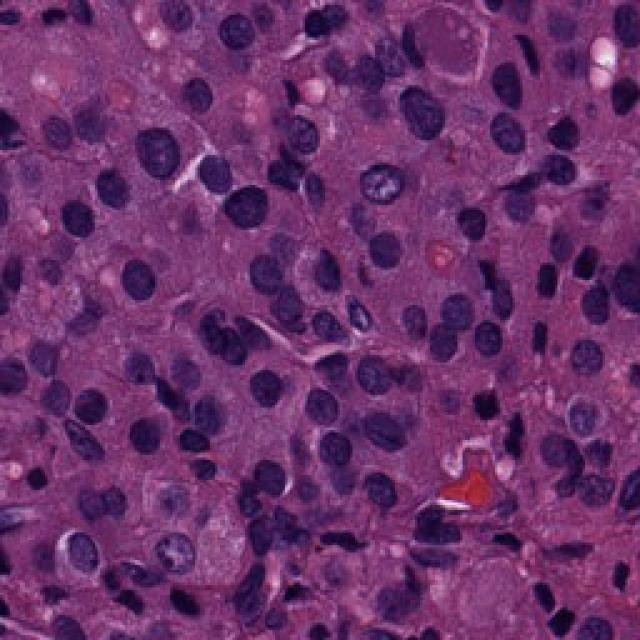abnormal: (122, 97, 198, 200), (95, 240, 178, 330), (350, 552, 440, 633), (354, 127, 429, 215), (136, 510, 212, 595), (473, 105, 557, 180), (43, 405, 120, 485), (205, 175, 287, 250), (47, 170, 125, 247), (348, 388, 408, 467), (362, 220, 428, 288), (292, 377, 355, 443), (553, 378, 615, 445)
